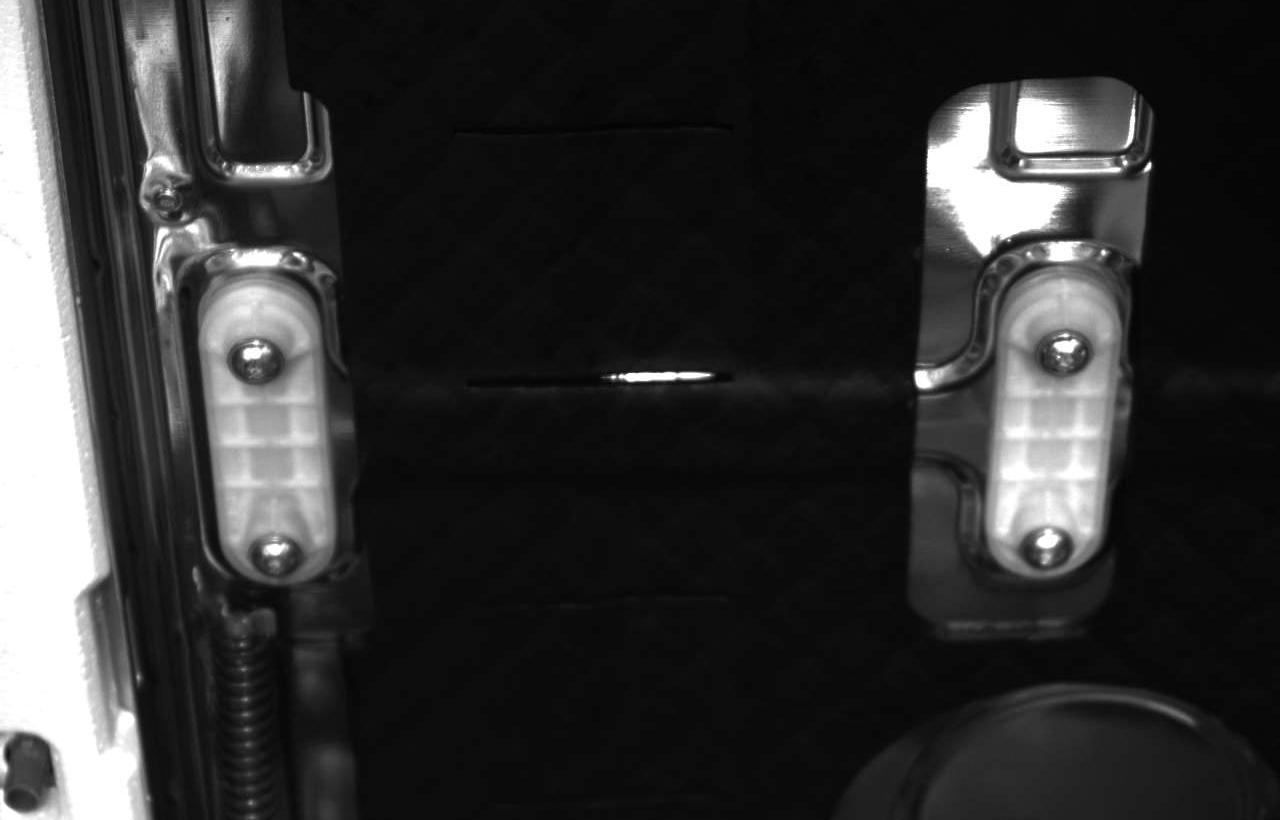vida-ok: (220, 327, 291, 394), (1033, 321, 1100, 388), (1017, 511, 1083, 579), (244, 525, 310, 584)
